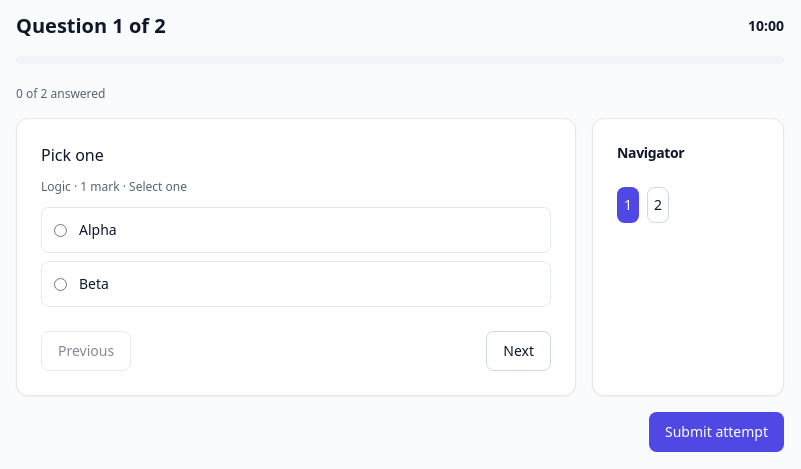
Test: AttemptPage › renders radios for single-select and checkboxes for multi-select
This screenshot has width=801, height=469.
Expected: the radio button labelled "Alpha" is shown, left=54, top=224, right=67, bottom=236
Click the button named "Go to question 2".
click(658, 205)  # box left=647, top=187, right=669, bottom=223
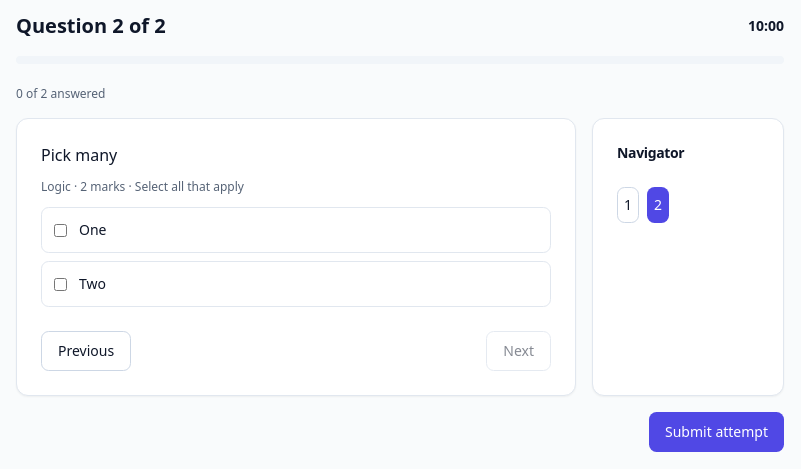
Now the checkbox labelled "One" is shown, box left=54, top=224, right=67, bottom=236
Now the radio button is gone
